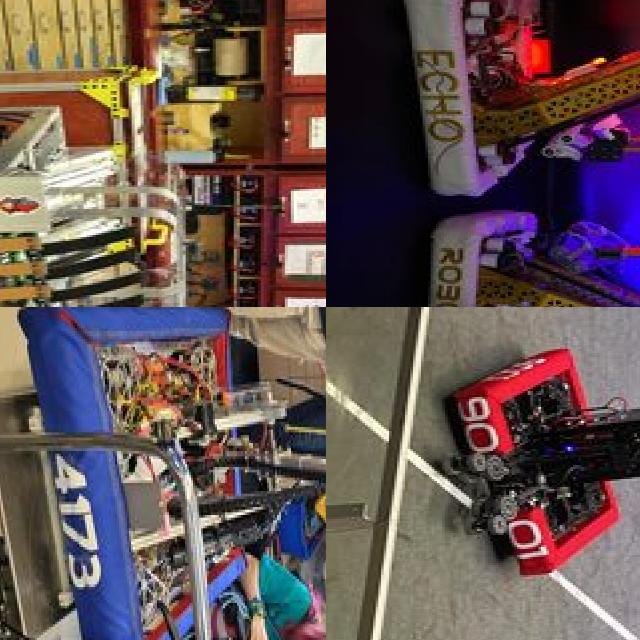FRC-Robots: (12, 307, 326, 640), (442, 312, 640, 590), (398, 0, 640, 220), (0, 51, 200, 307), (391, 208, 640, 307)
